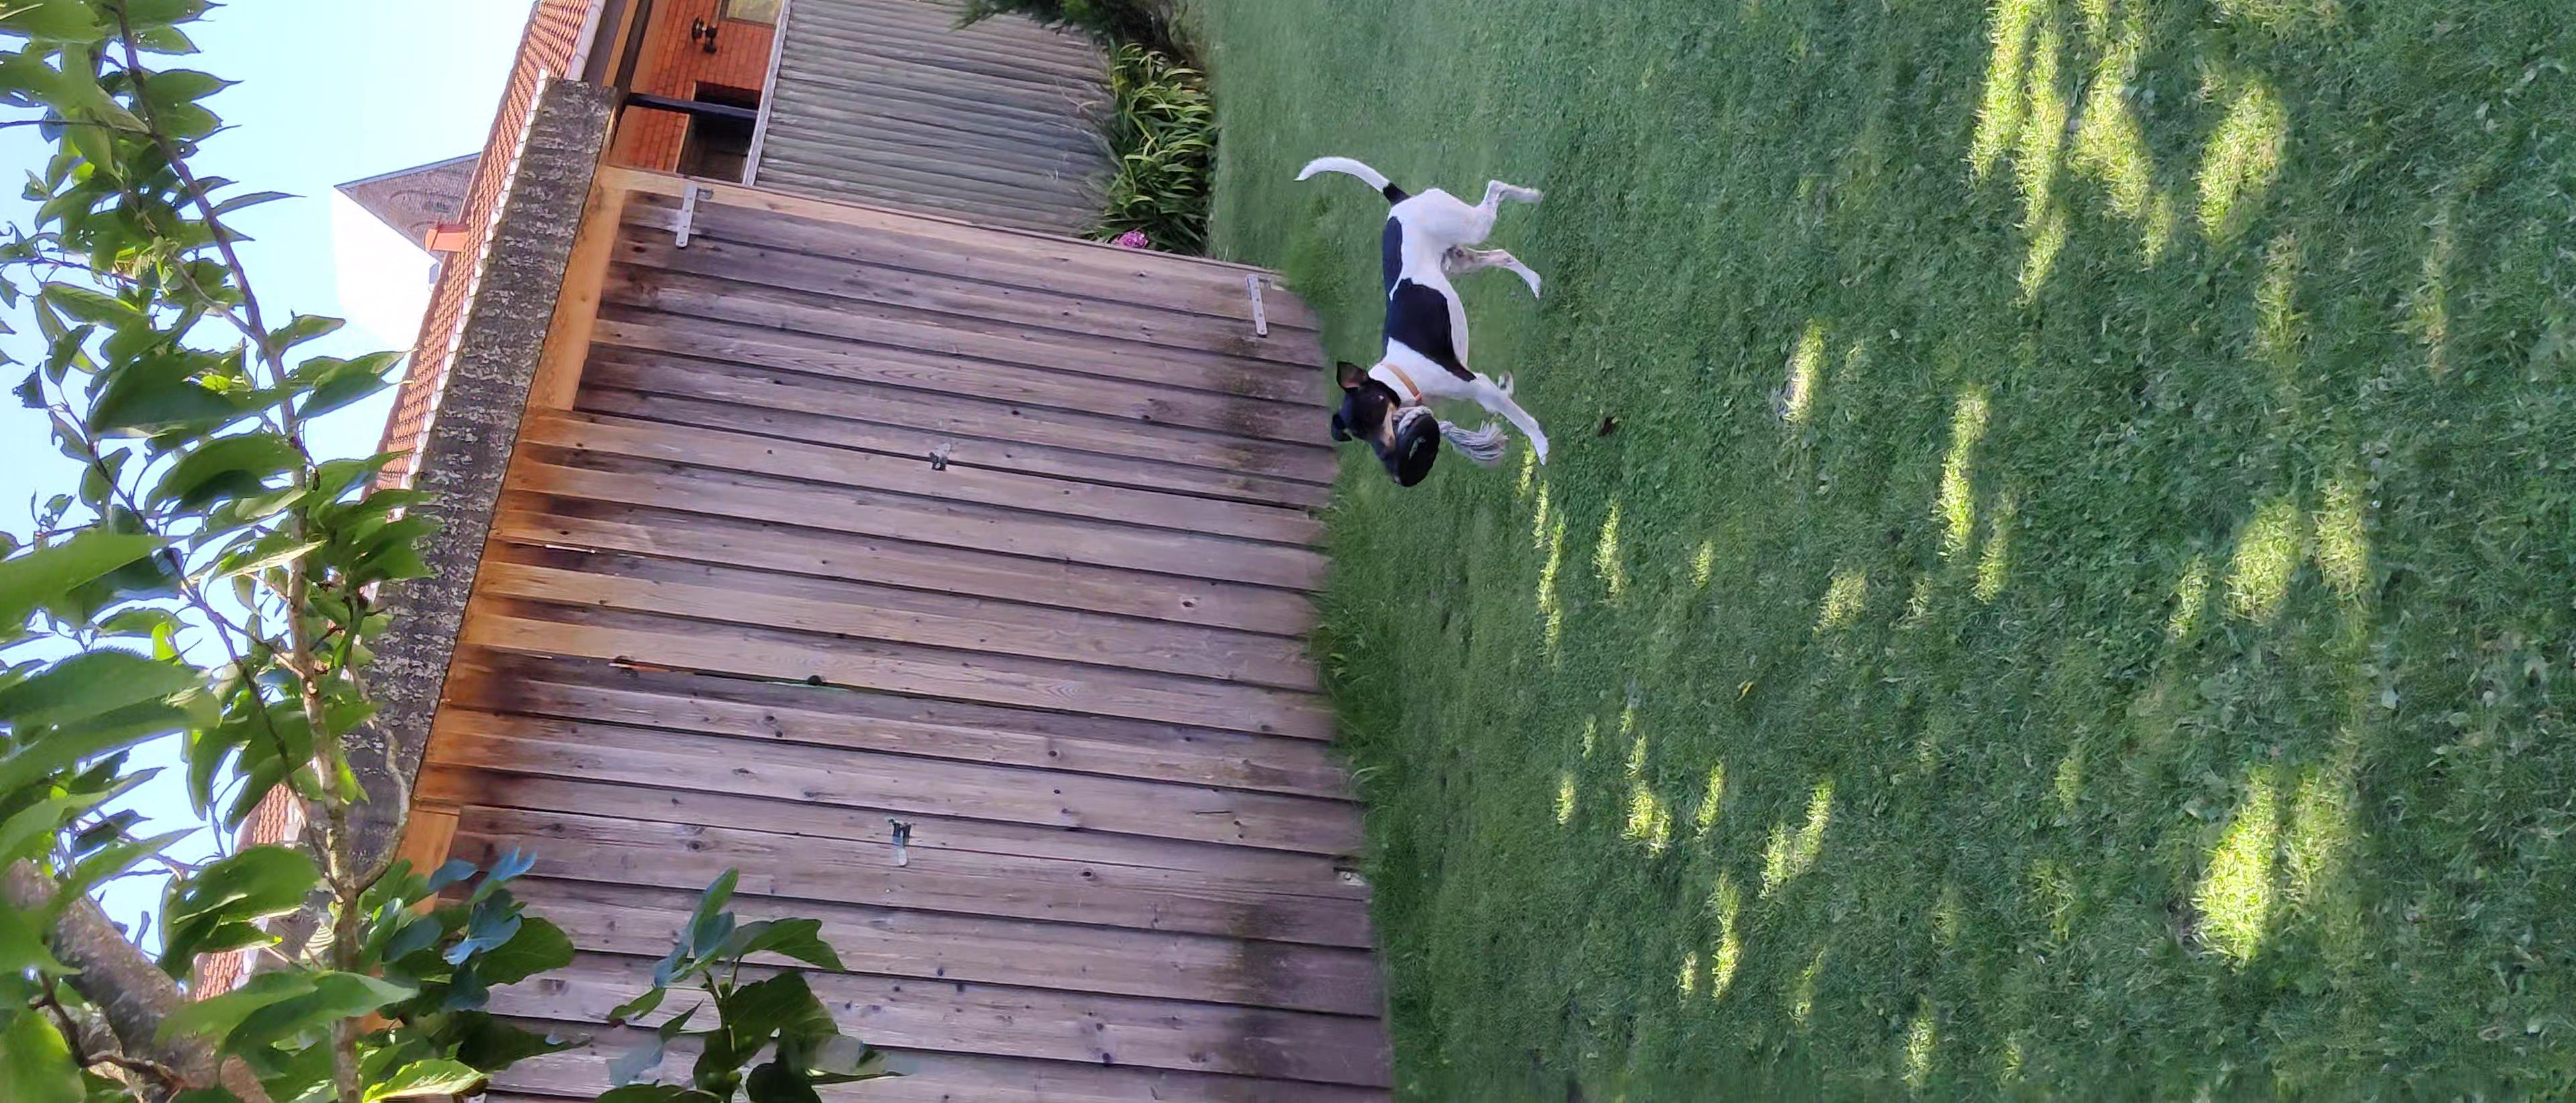Dog: (1286, 150, 1557, 472)
